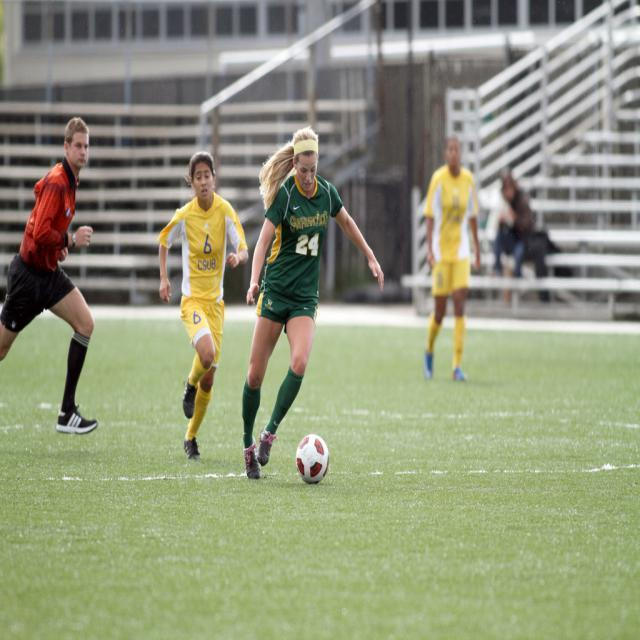football: (289, 422, 340, 489)
